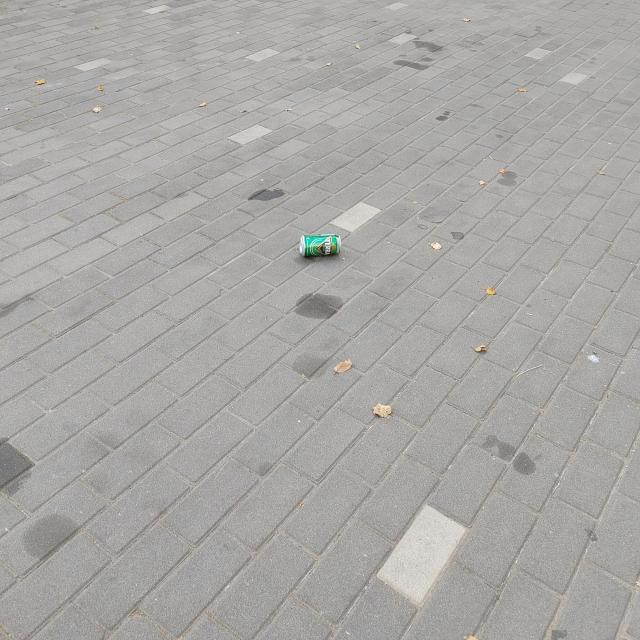can: (299, 234, 341, 256)
